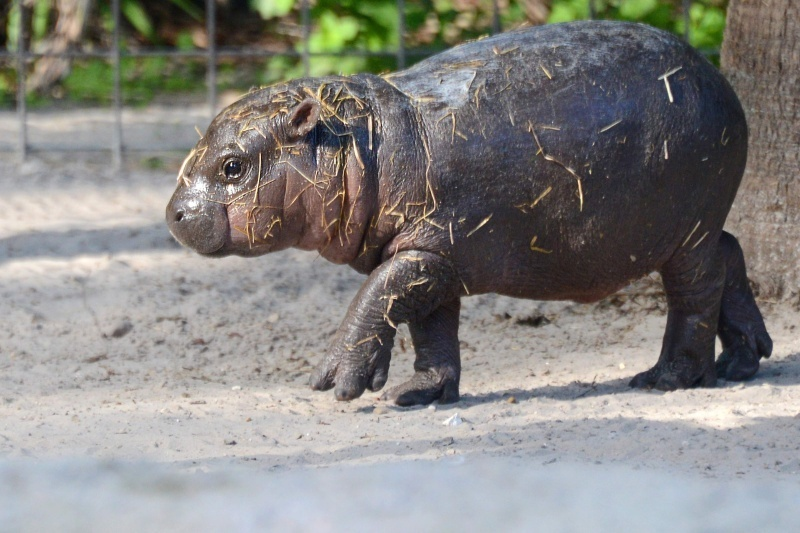hipopotamo: (148, 15, 789, 425)
